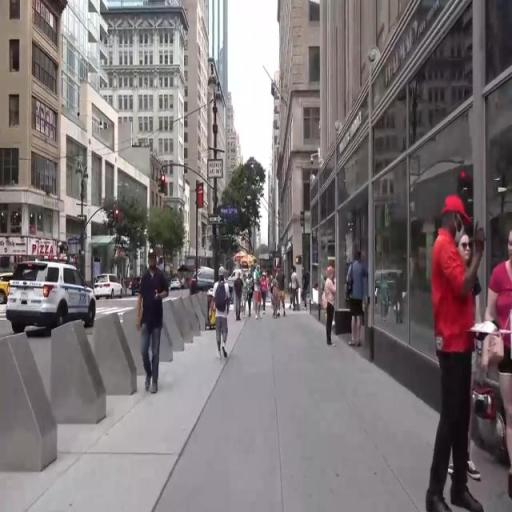person: (427, 198, 470, 495), (489, 223, 512, 457), (139, 242, 166, 390), (349, 249, 371, 356), (214, 265, 232, 372), (325, 263, 339, 357), (278, 267, 289, 323), (252, 264, 262, 319), (303, 267, 314, 312), (237, 272, 244, 333), (291, 266, 300, 313), (273, 277, 280, 320)
